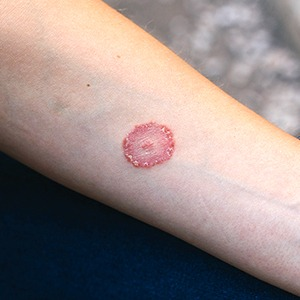Ringworm: (117, 110, 182, 174)
